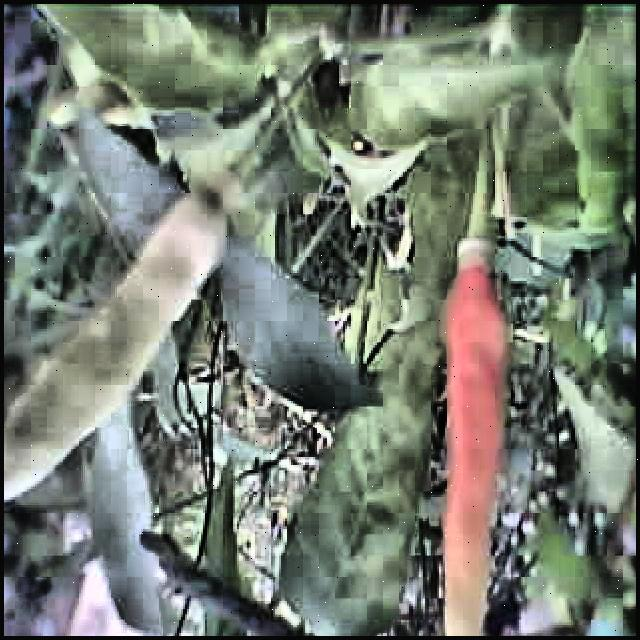Cabai: (431, 237, 513, 636)
